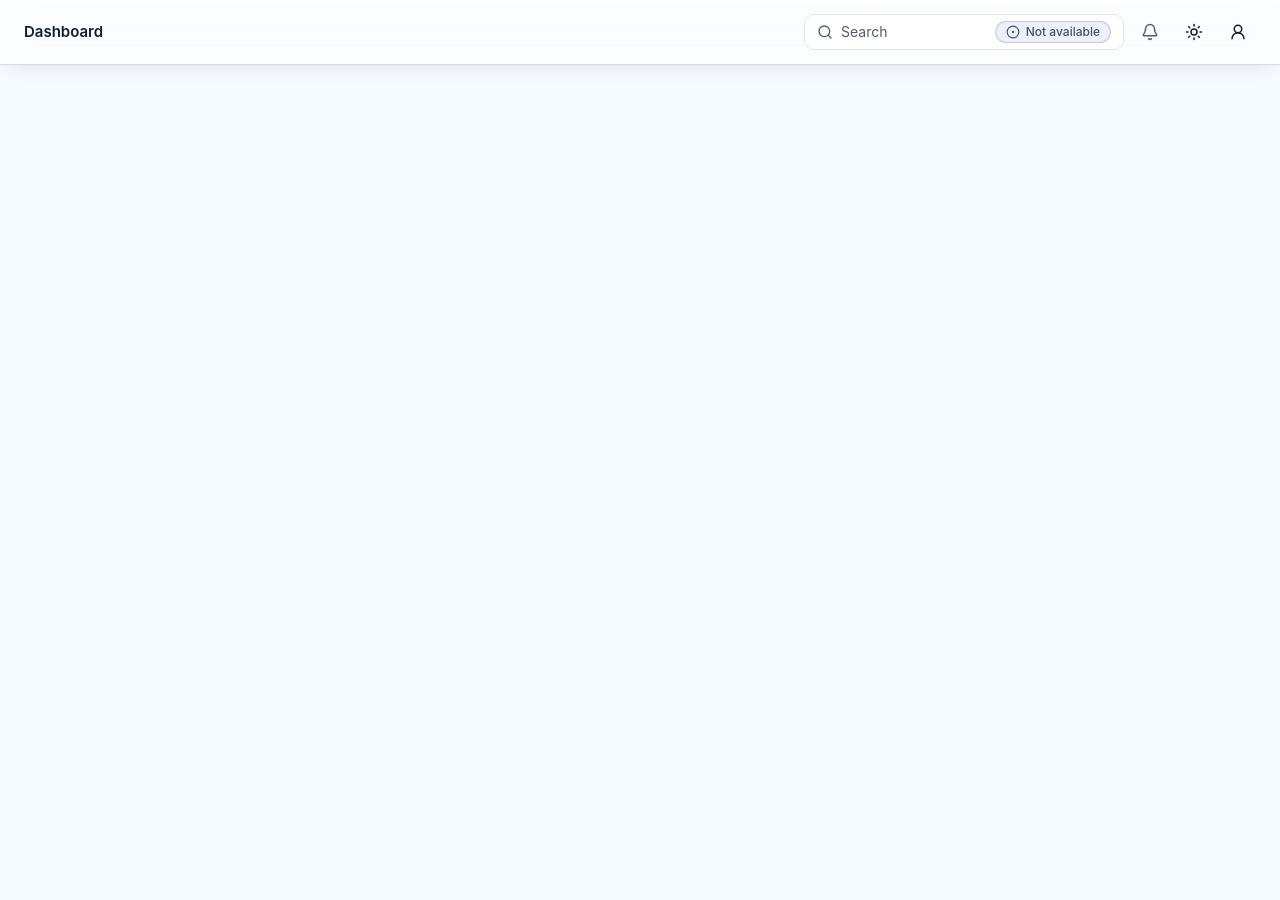
Test: top bar — unbuilt features are presented honestly › explains that notifications are not available when activated
The image size is (1280, 900).
Click the button with test id "notifications" at (1150, 32), box [1132,14,1168,50]
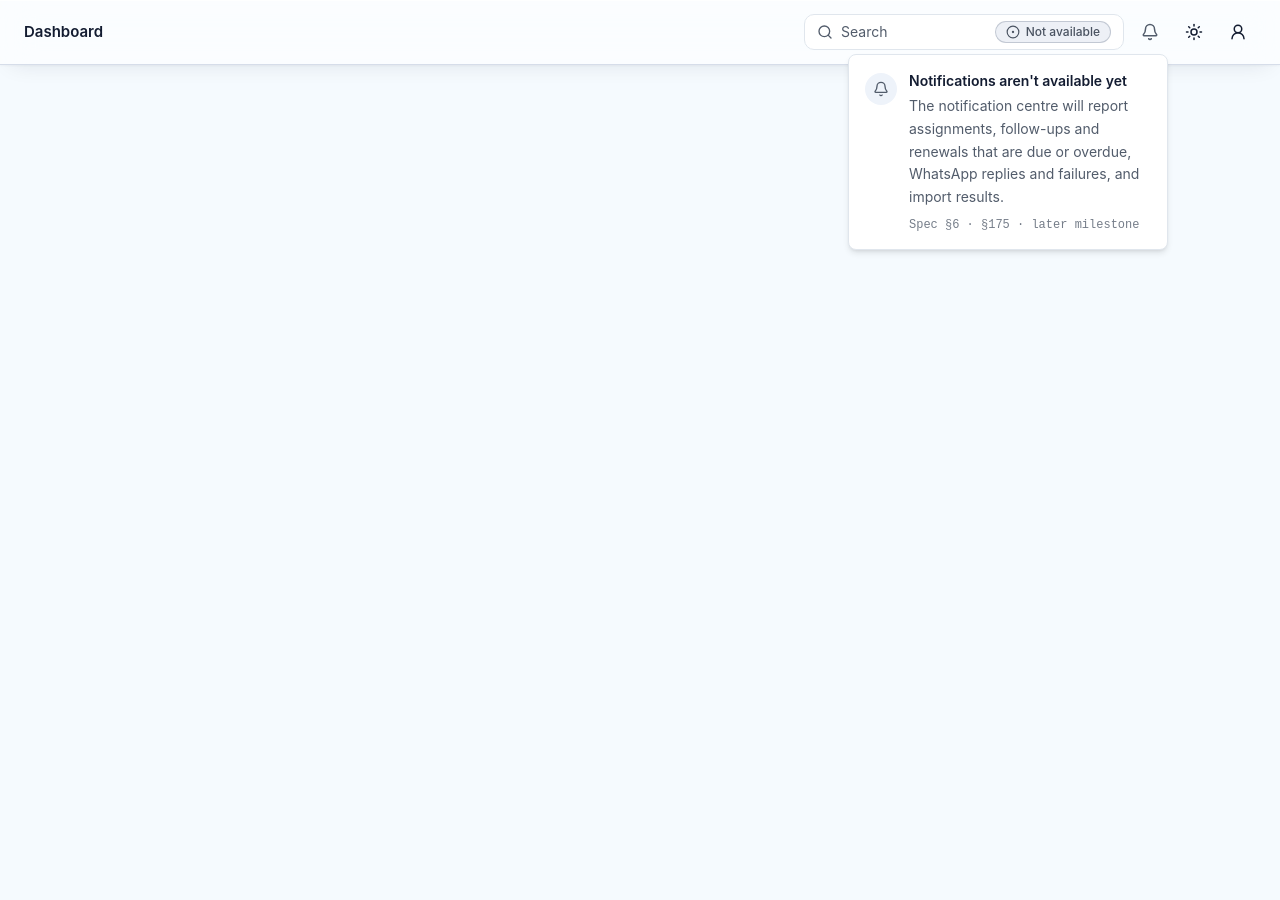
Result: the text "Notifications aren't available yet" is shown at [909,71,1151,91]
